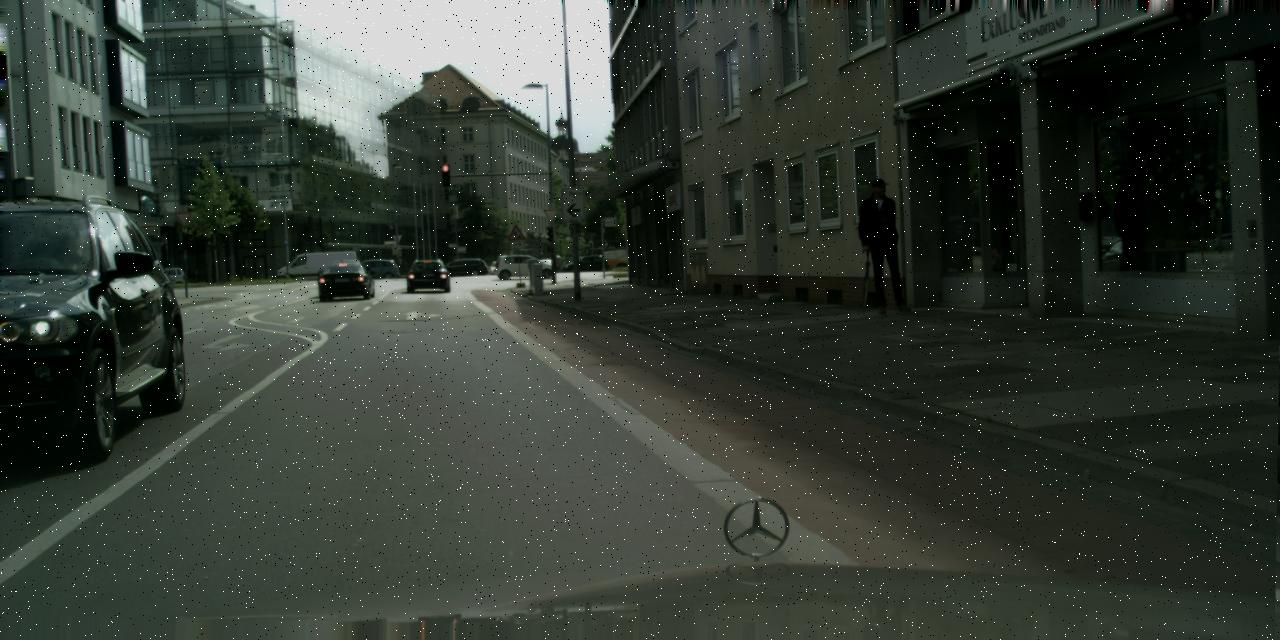ped: (858, 178, 913, 311)
